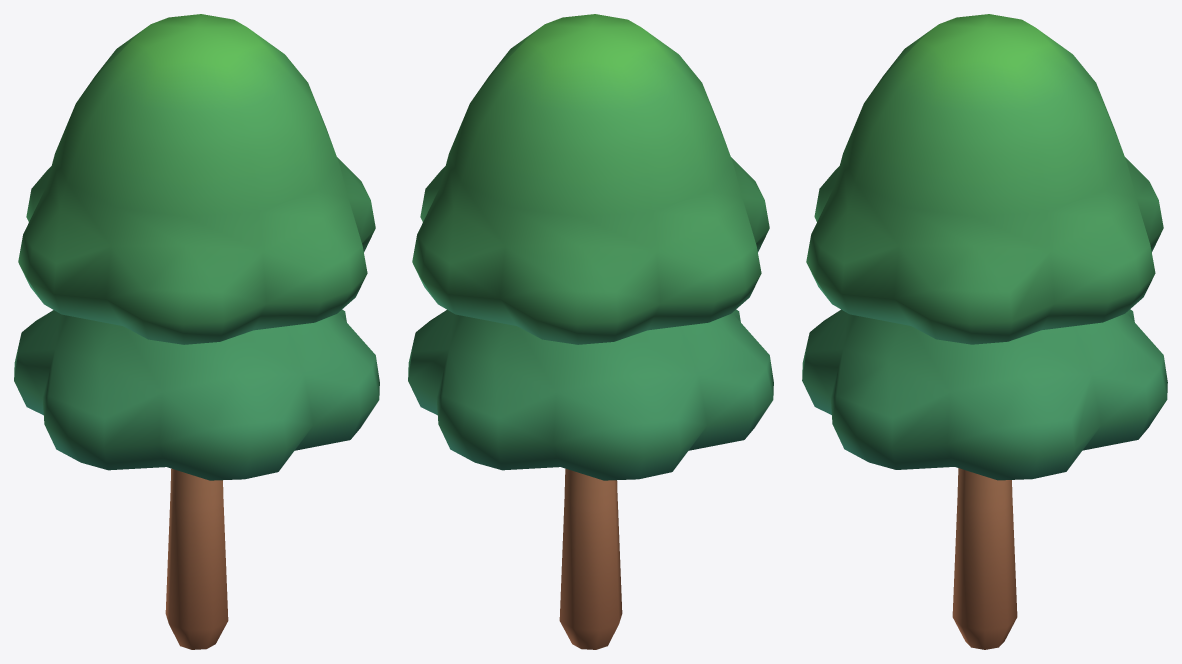
File: tree_large.fbx
3 views of the same model, side by side, from view 1: azimuth 30°, elevation 25°; view 2: azimuth 150°, elevation 25°; view 3: azimuth 270°, elevation 25° (orthographic).
Visible parts, largest first — view 1: tree_large; view 2: tree_large; view 3: tree_large.
Boxes of the visible parts, x1=… form: tree_large: x1=14, y1=14, x2=379, y2=649; tree_large: x1=408, y1=14, x2=773, y2=649; tree_large: x1=802, y1=14, x2=1167, y2=649.
Size of the model in its own units: 2.75 by 4.98 by 2.69.
